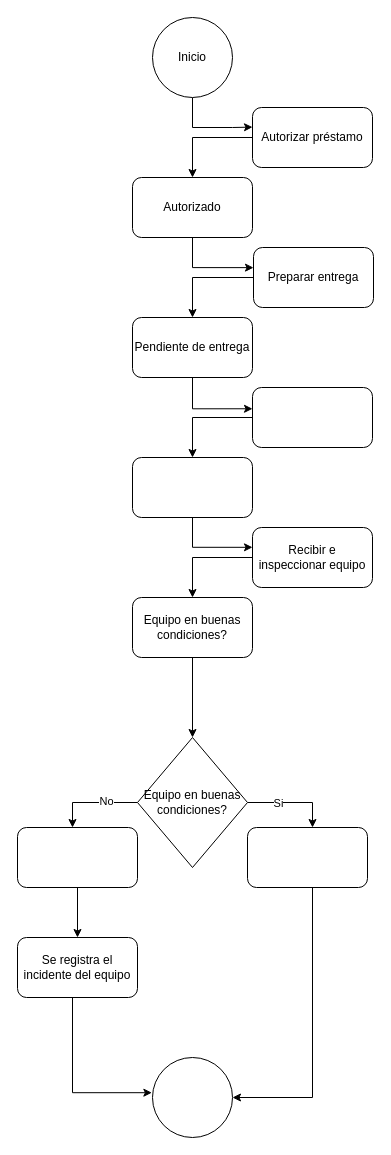
Image size: 391x1155. Some labels were removed from this diagram. The box of each missing label's shape, as (x1, y1, x2, y2) in pixels:
Devuelto con incidentes: (16, 826, 138, 888)
Devuelto sin incidentes: (246, 826, 368, 888)
En préstamo: (132, 456, 252, 518)
Entregar equipo: (252, 386, 372, 448)
Fin: (152, 1056, 232, 1138)
